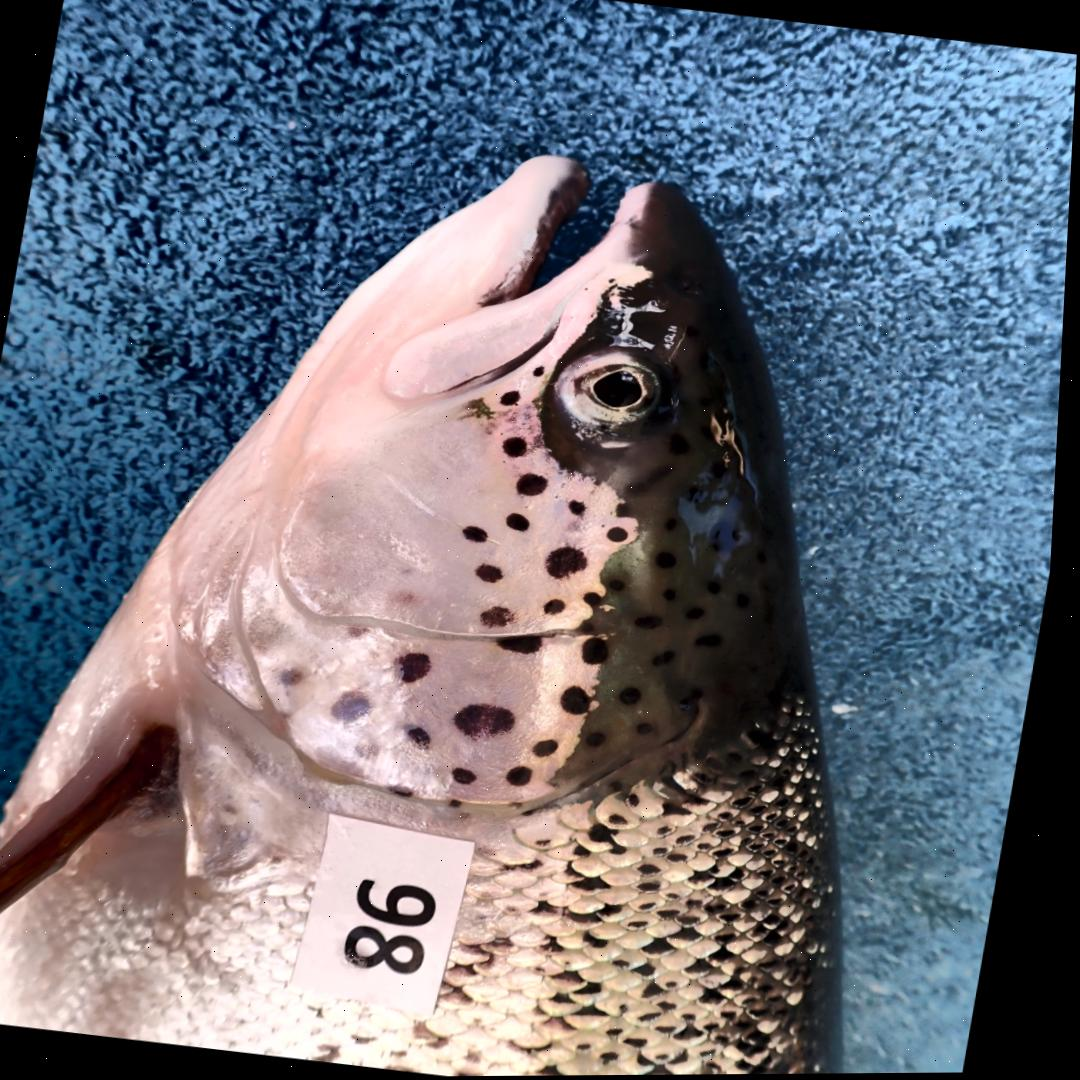spot: (460, 704, 522, 740), (550, 547, 593, 579), (337, 691, 378, 723), (404, 653, 438, 683), (503, 635, 549, 654), (567, 687, 596, 716), (587, 638, 615, 666), (485, 606, 519, 629), (520, 474, 552, 496), (412, 726, 439, 749), (361, 741, 390, 762), (283, 667, 312, 687), (512, 766, 539, 787), (481, 565, 509, 584), (539, 740, 566, 759), (507, 437, 530, 458), (509, 513, 534, 532), (467, 526, 493, 544), (459, 768, 484, 786), (548, 599, 572, 616), (352, 625, 378, 640), (611, 527, 632, 543), (571, 501, 591, 517), (504, 391, 523, 407), (587, 593, 607, 608), (398, 788, 422, 798), (536, 366, 547, 377), (457, 799, 469, 808)
